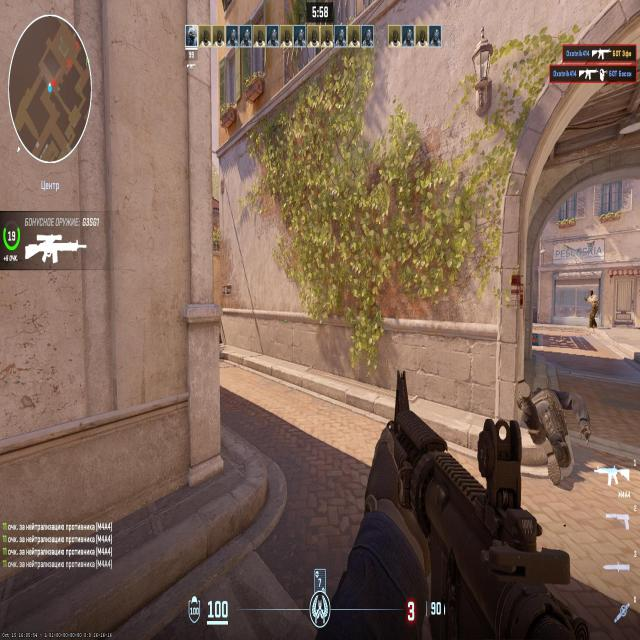T: (590, 290, 596, 320)
T_heat: (590, 293, 593, 300)
